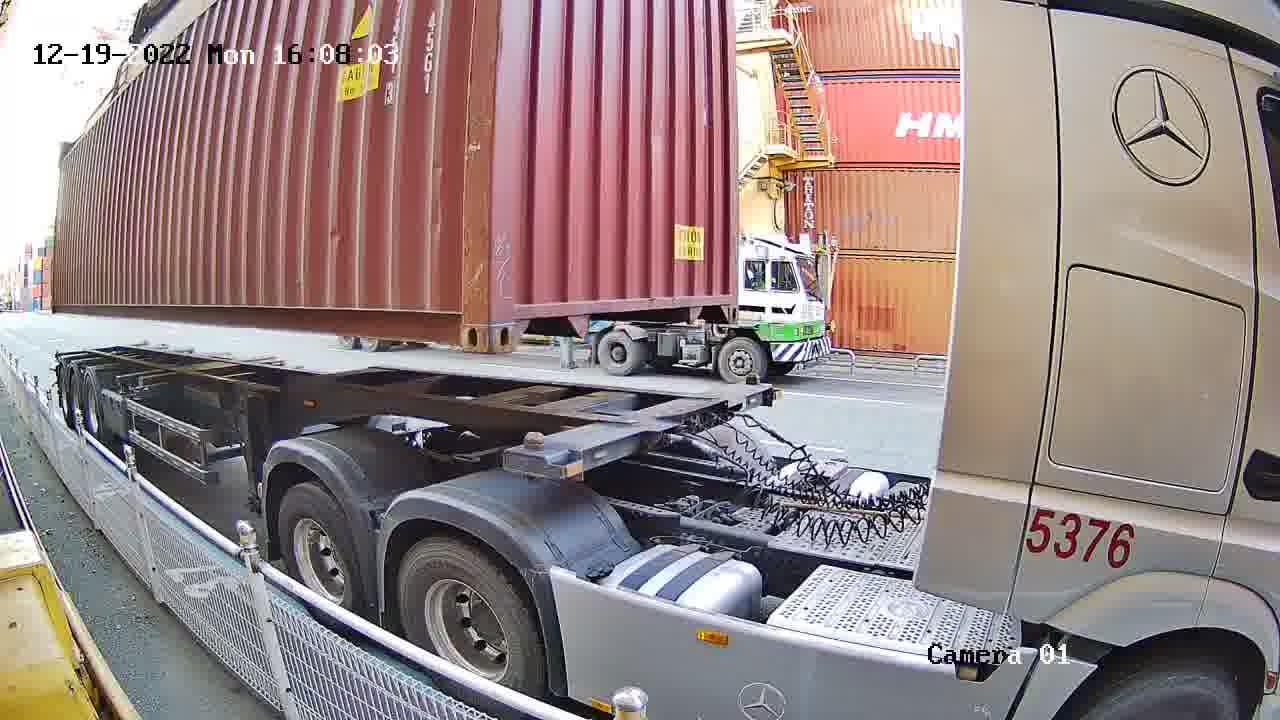Chassis: (504, 383, 775, 483)
Cone: (520, 430, 549, 485), (741, 369, 765, 386)
Hole_L: (491, 281, 552, 354)
Hole_R: (421, 274, 488, 356), (703, 271, 741, 327)
Tire: (399, 540, 540, 694), (279, 486, 362, 607)
